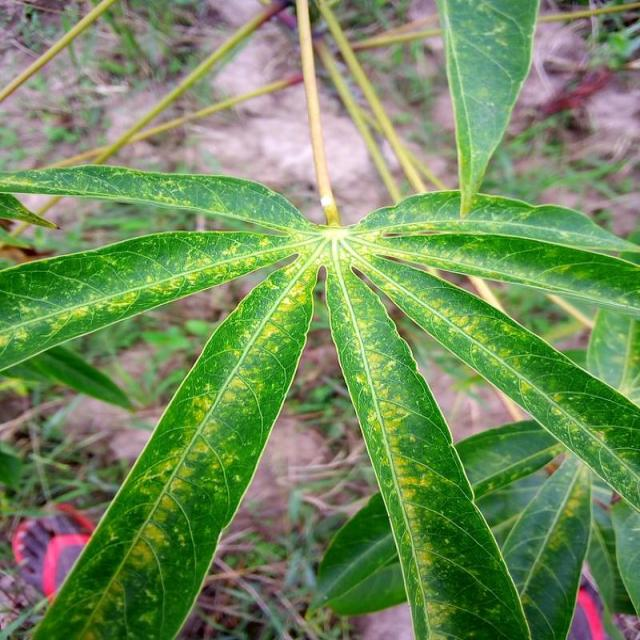cassava leaf: (1, 0, 638, 638), (26, 249, 320, 638), (322, 243, 532, 638)
